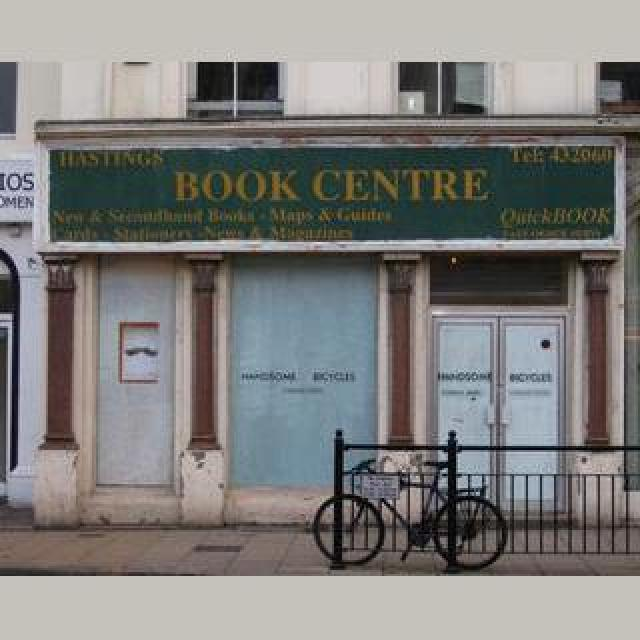Person: (312, 434, 508, 572)
